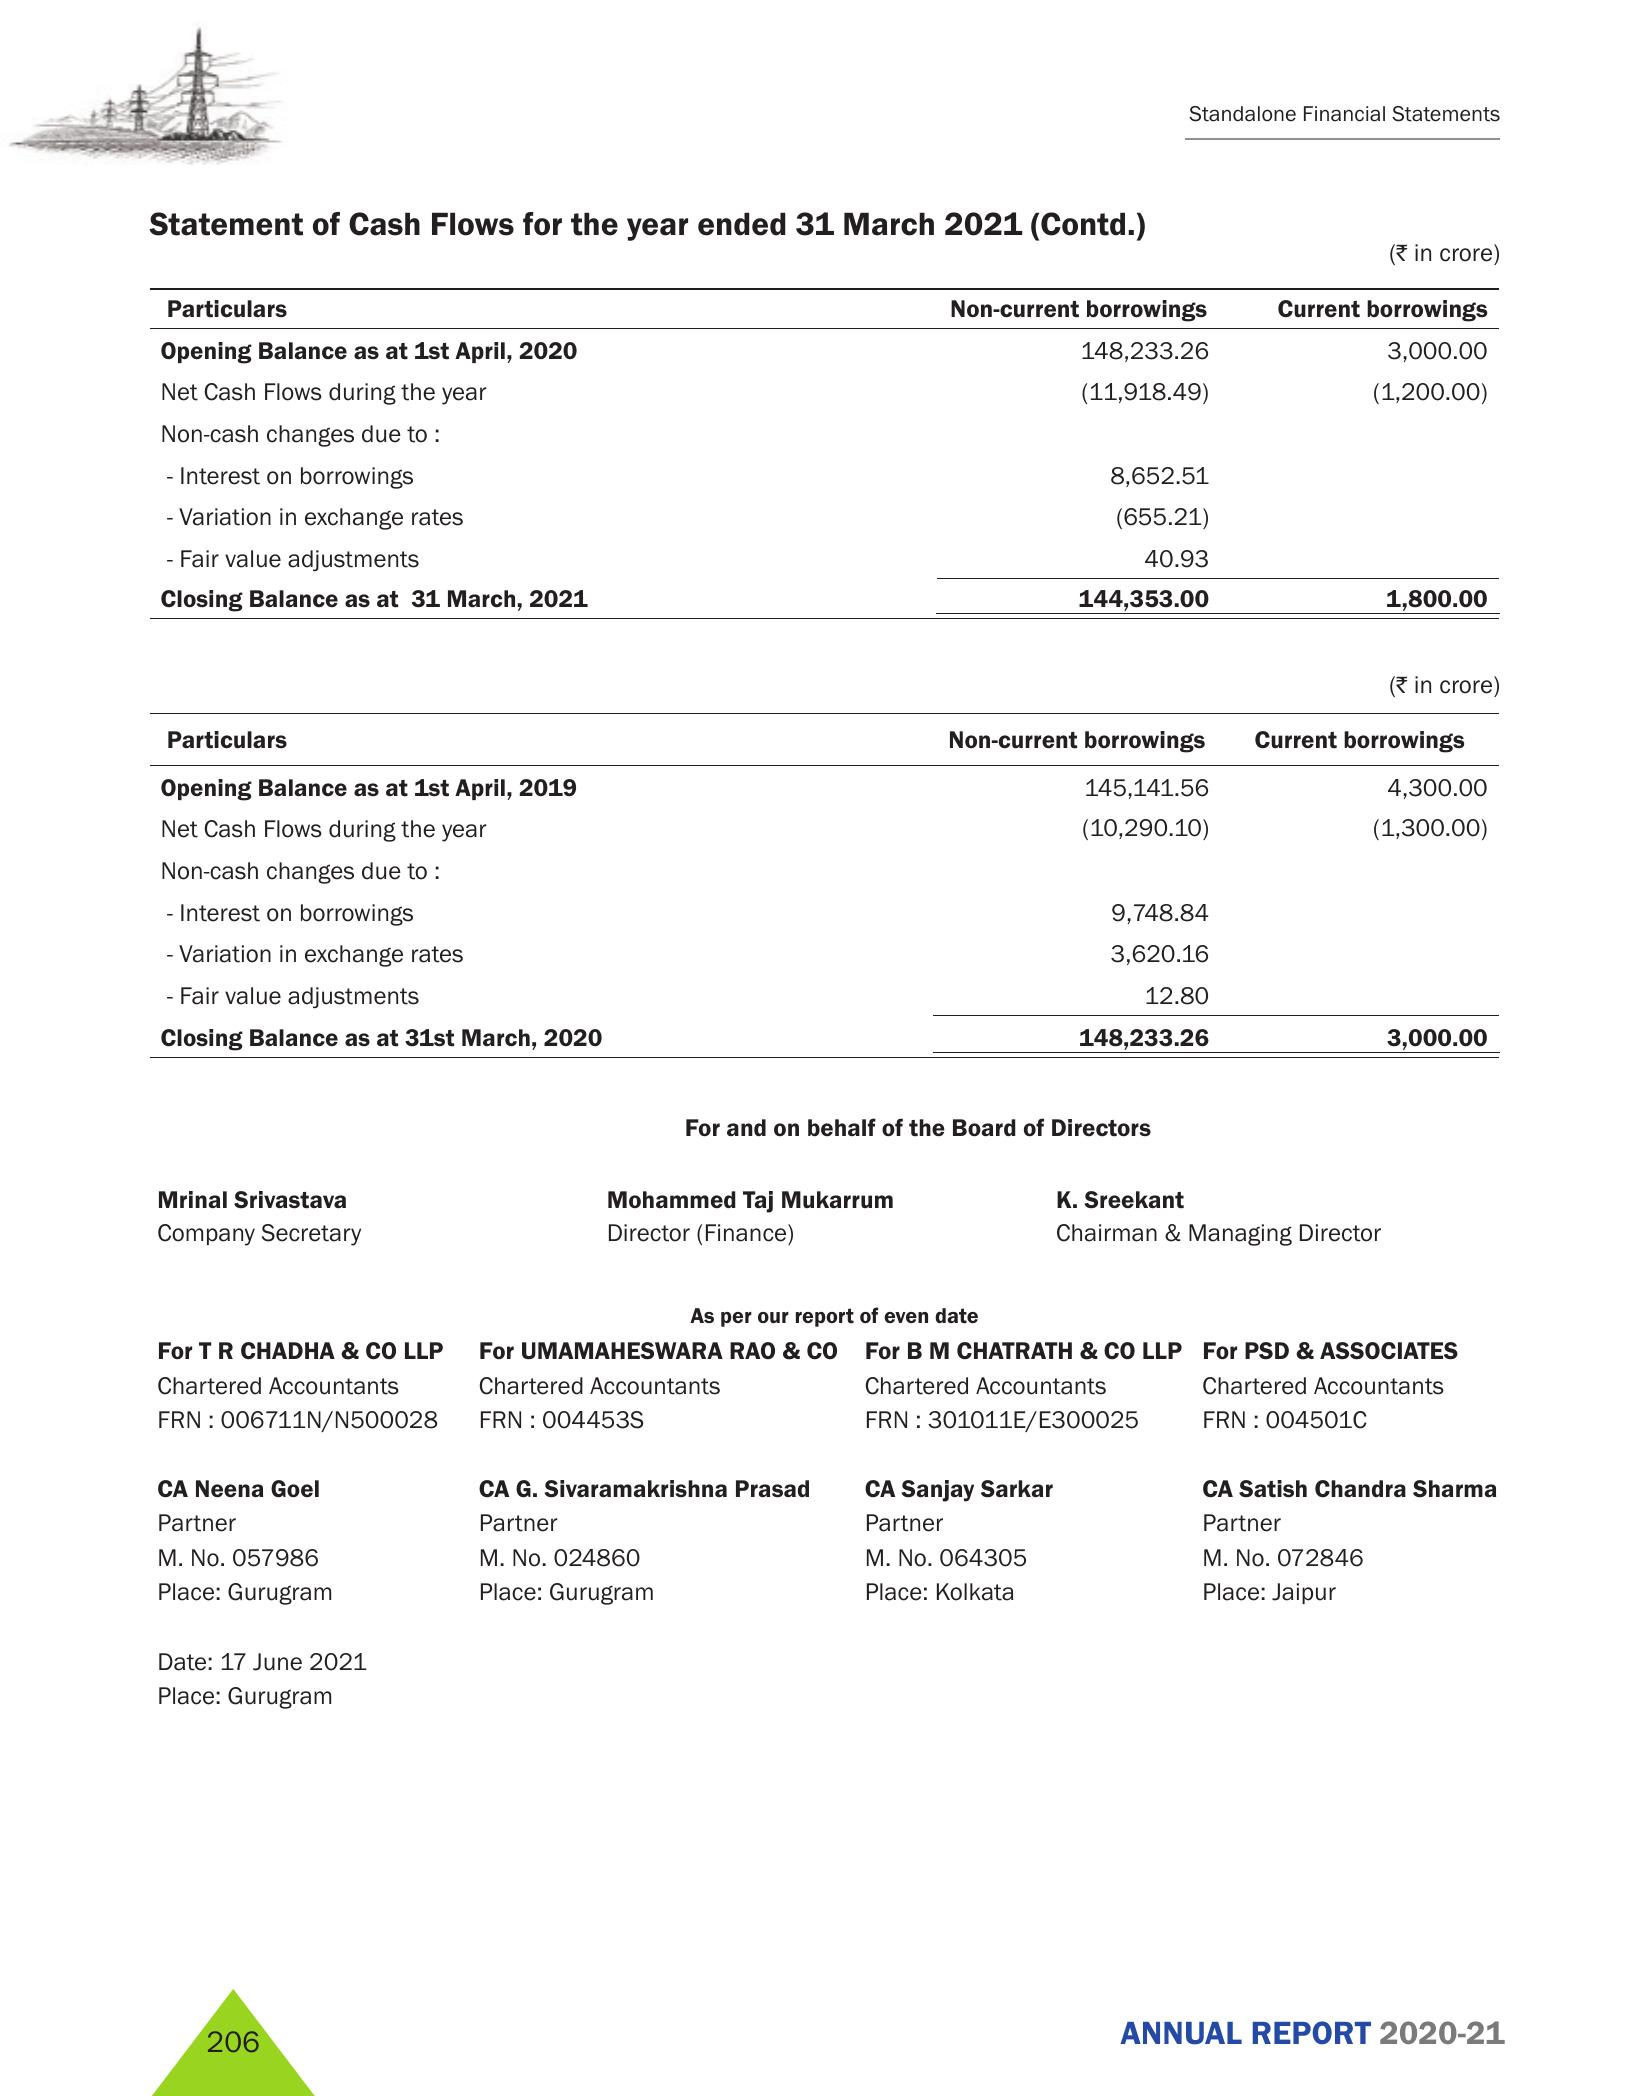Footer: (0, 1974, 1650, 2096)
Header: (0, 0, 1650, 172)
Table: (126, 662, 1521, 1067), (126, 242, 1521, 624)
